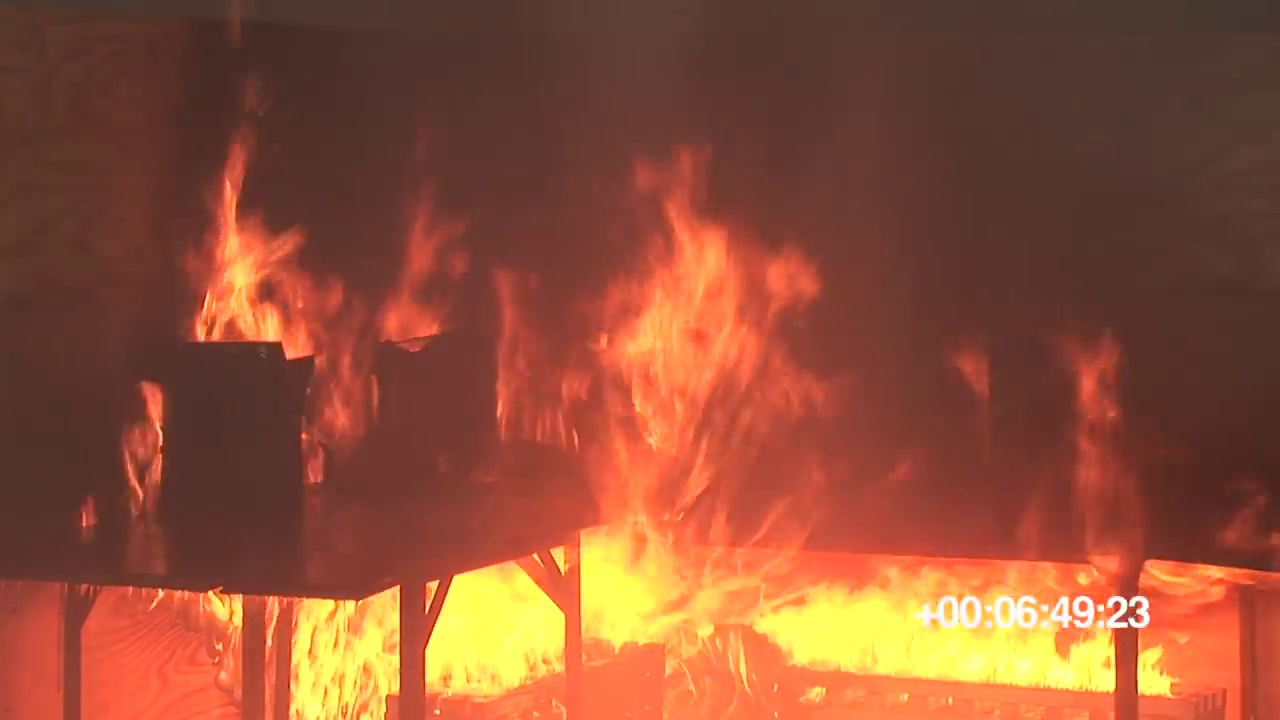fire: (587, 218, 827, 618), (204, 591, 555, 720), (757, 595, 1169, 696), (204, 178, 306, 340), (491, 270, 579, 444), (309, 281, 366, 448), (389, 220, 458, 337), (119, 383, 162, 505)
